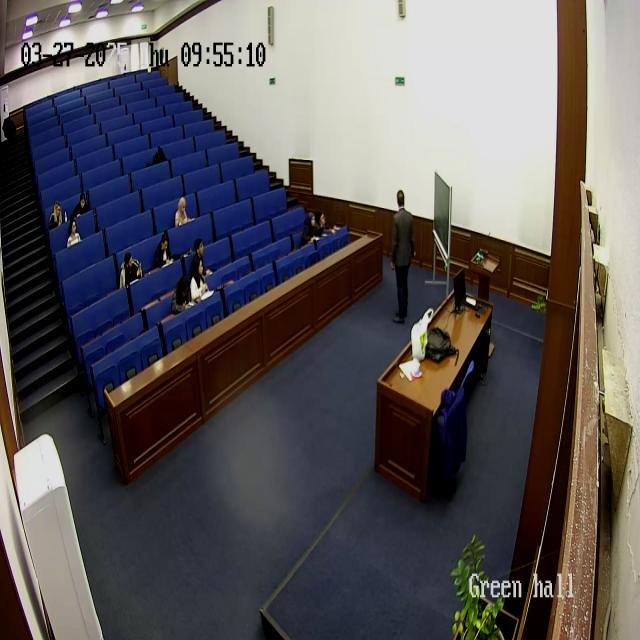person: (389, 190, 416, 324), (190, 255, 212, 303), (171, 276, 195, 314), (192, 236, 212, 278), (120, 251, 142, 289), (153, 230, 174, 268), (301, 210, 323, 243), (174, 196, 192, 226), (314, 209, 334, 235), (66, 218, 82, 249), (48, 200, 64, 230), (75, 191, 91, 217)
